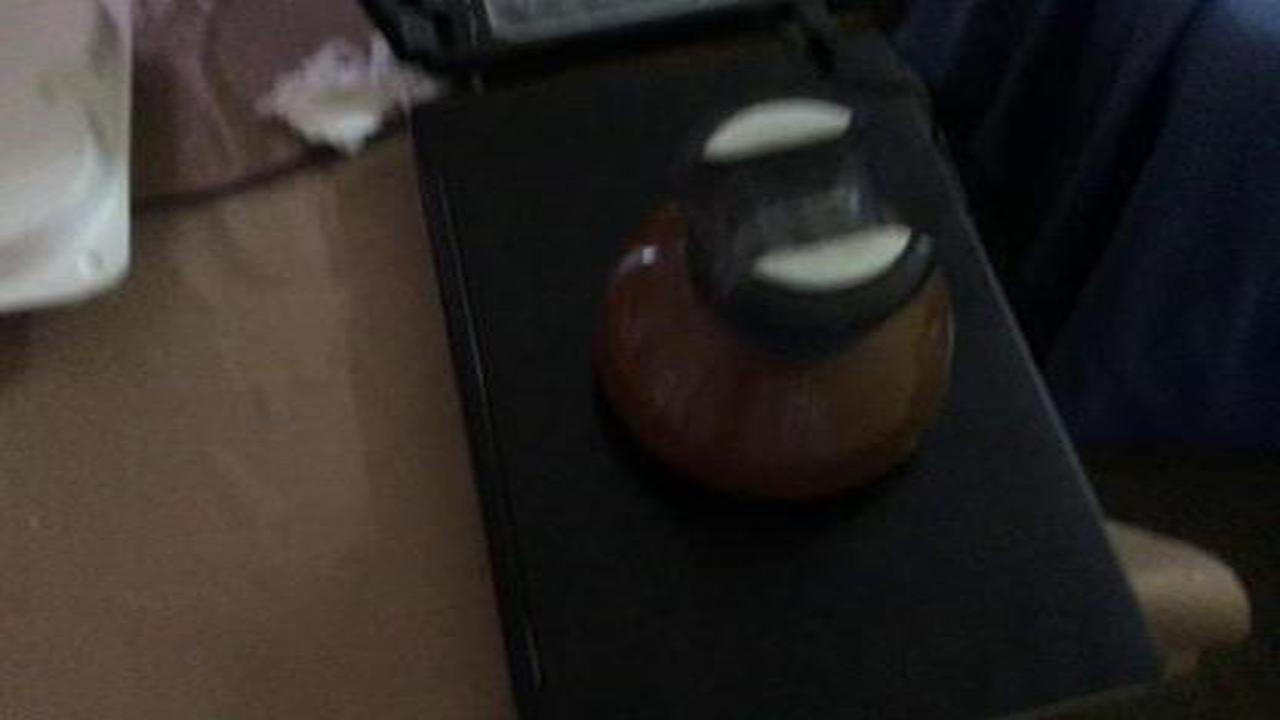insulator_pin: (570, 78, 979, 520)
